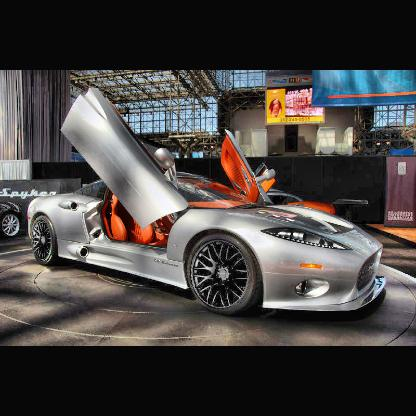Spyker C8 Convertible 2009: (26, 85, 388, 321)
